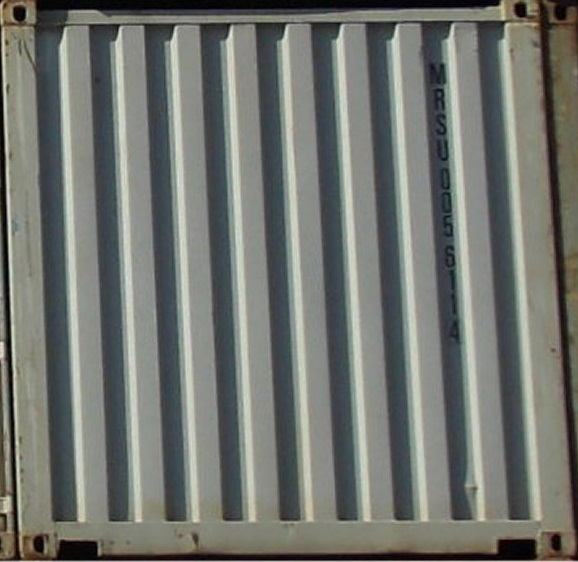container_no_door: (4, 1, 564, 555)
